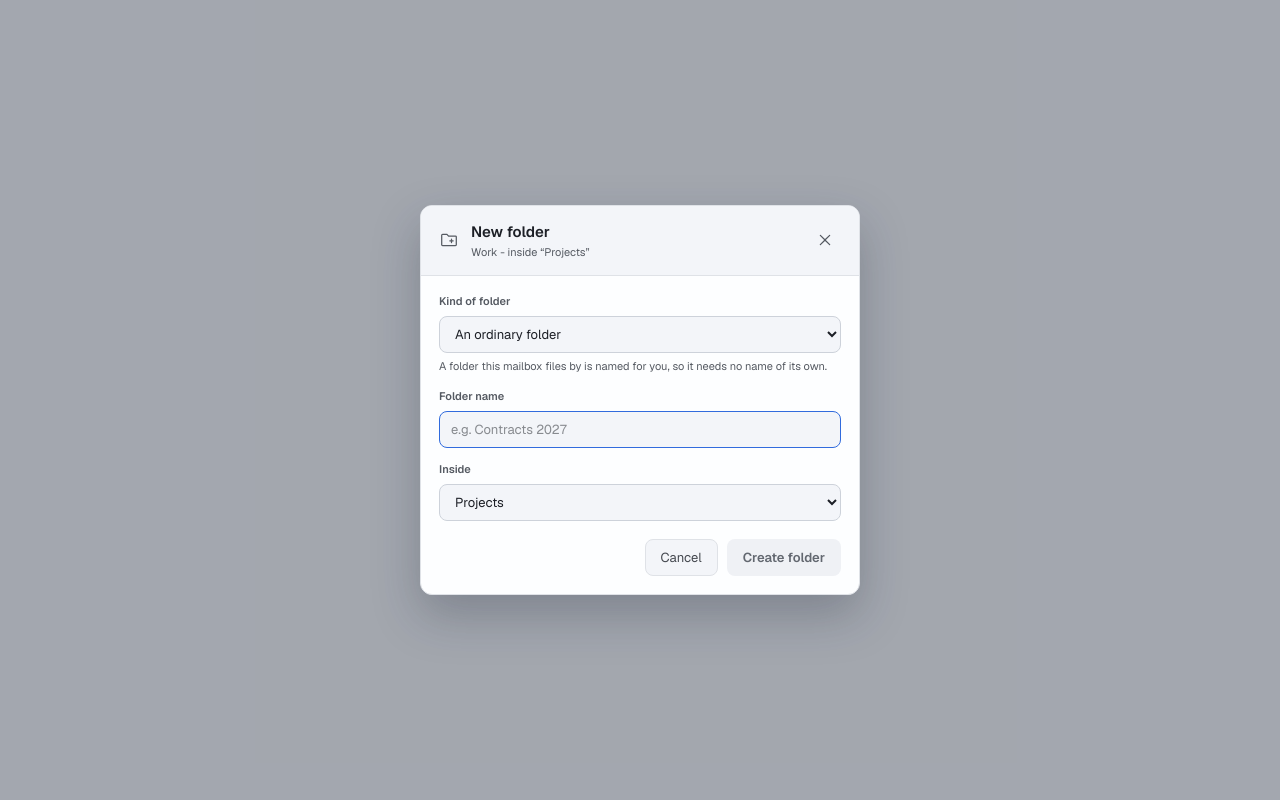
it: FolderMaintenanceProvider › makes the folder where somebody named one, and says what was made
Type "Contracts" into the field labelled "Folder name". click: (640, 429)
box: [439,410,841,448]
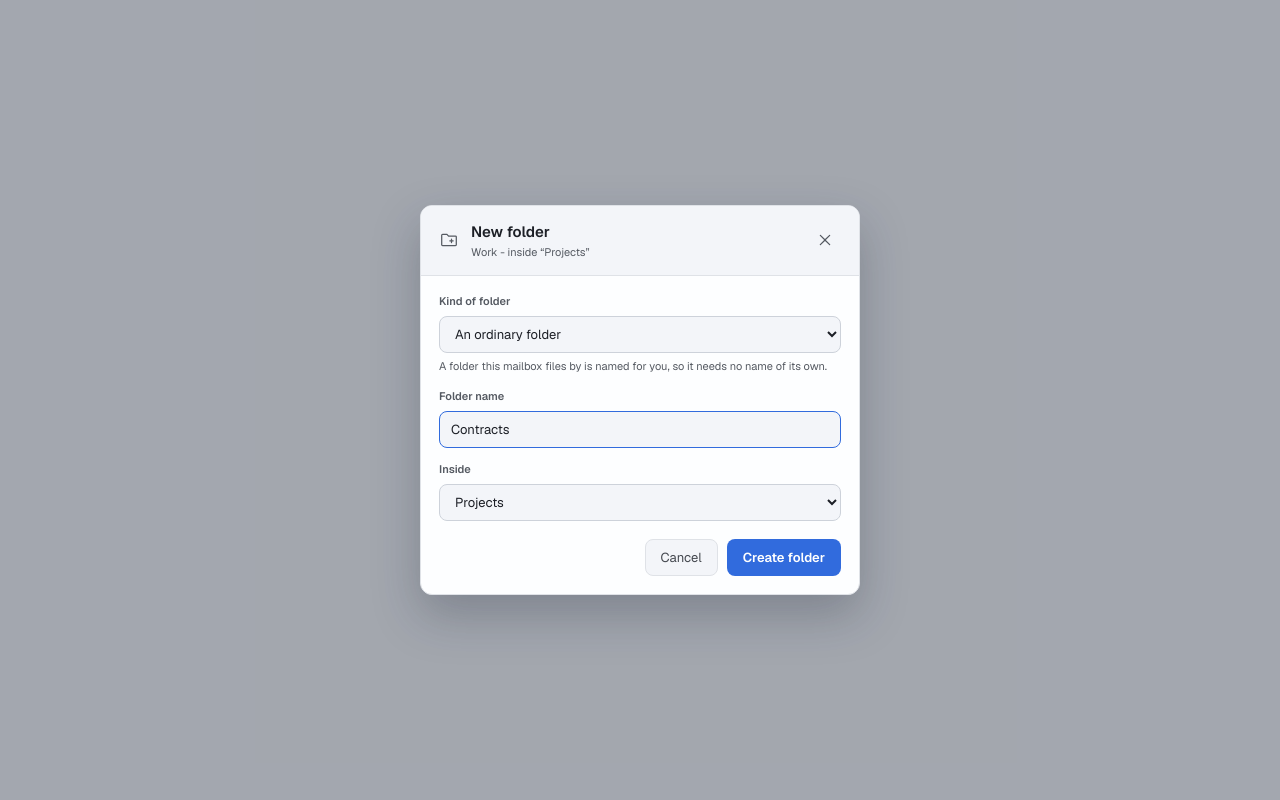
Click the button "Create folder". click: (784, 558)
box: [727,539,841,576]
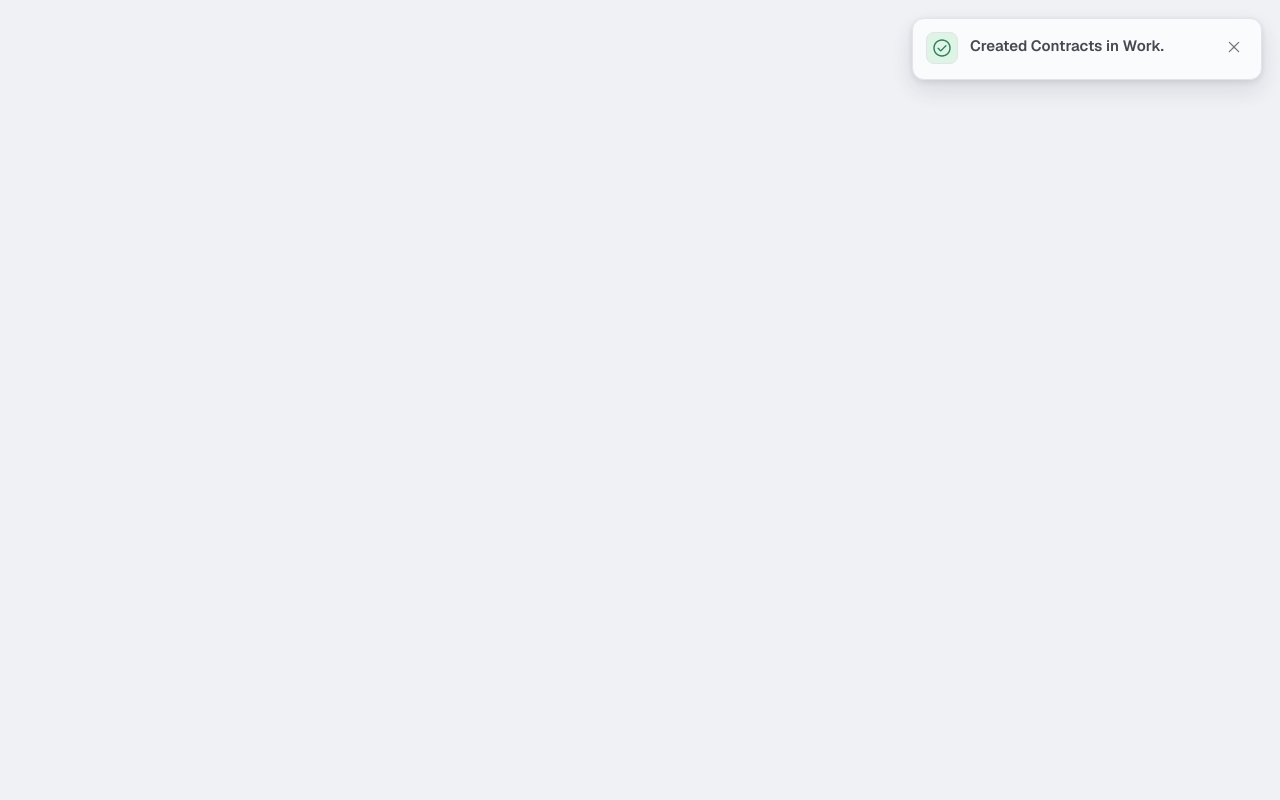
Result: the text "Created Contracts in Work." is shown at [969,35,1164,55]
